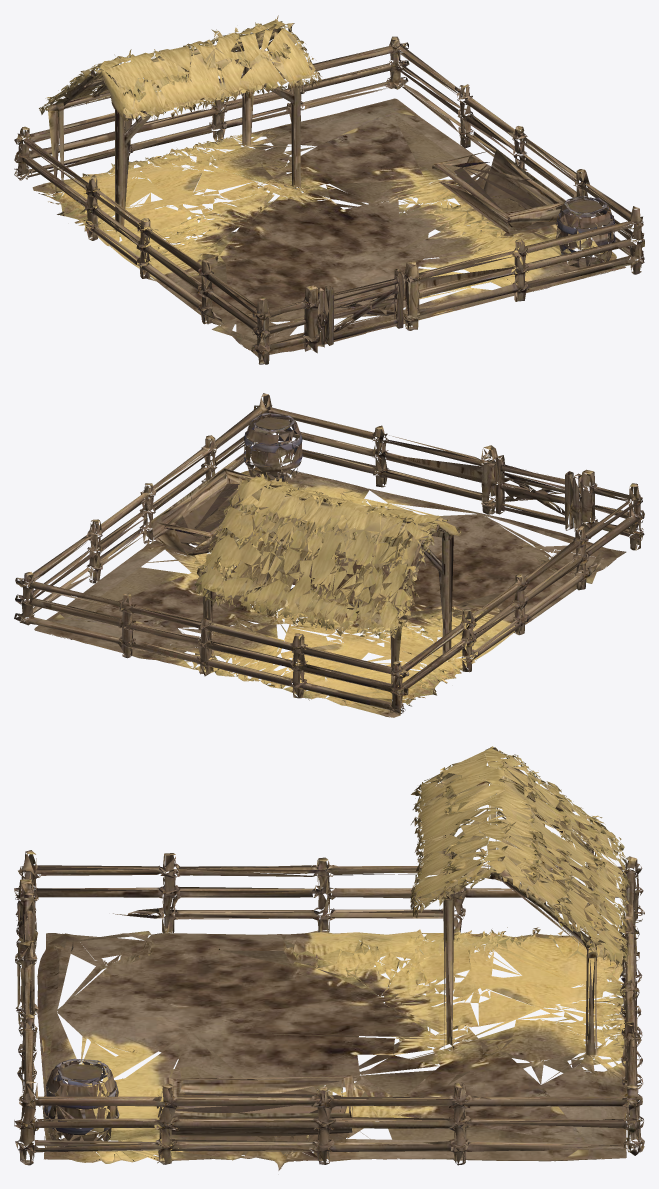
Rendered from stall.glb.
3 renders of one model, top to bottom at view 1: azimuth 30°, elevation 25°; view 2: azimuth 150°, elevation 25°; view 3: azimuth 270°, elevation 25°, orthographic. The views are drawn at different scales.
Bounding box in the file's own units: 1.72 × 0.7034 × 1.9.
Materials: 1 (1 with a texture image).
